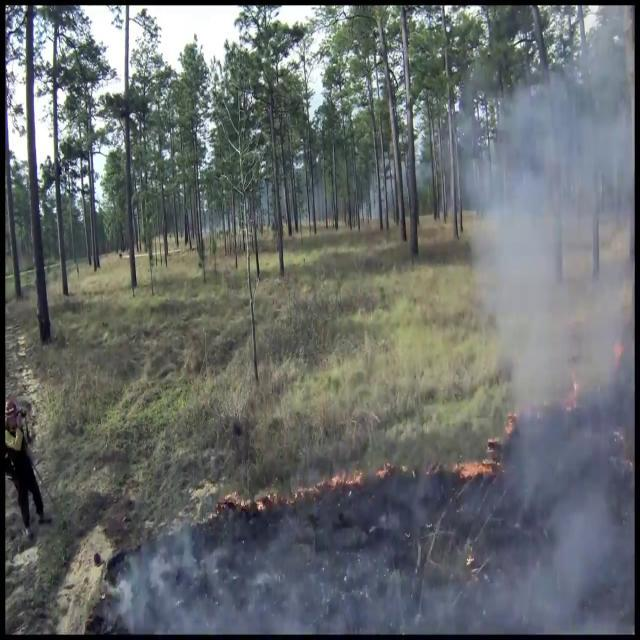Smoke: (448, 15, 634, 627), (123, 494, 490, 640)
